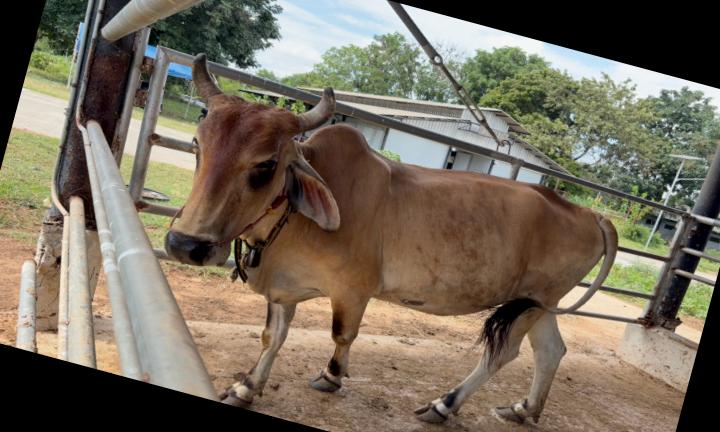Brahman: (164, 55, 617, 422)
